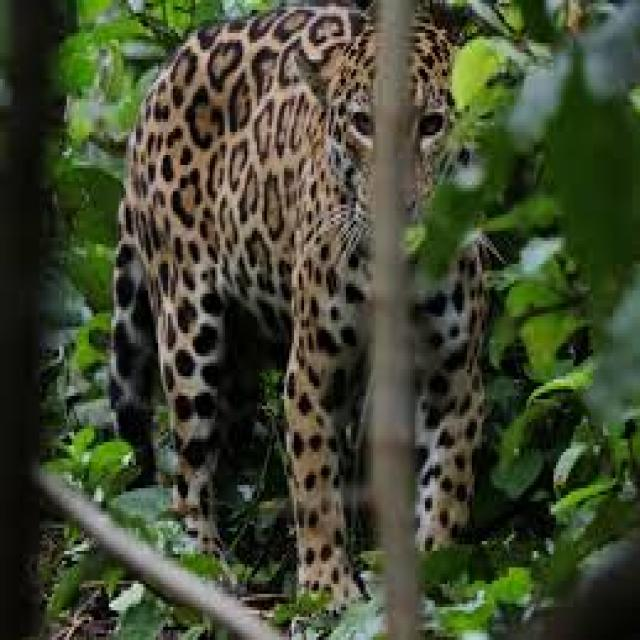Jaguar: (101, 0, 492, 614)
